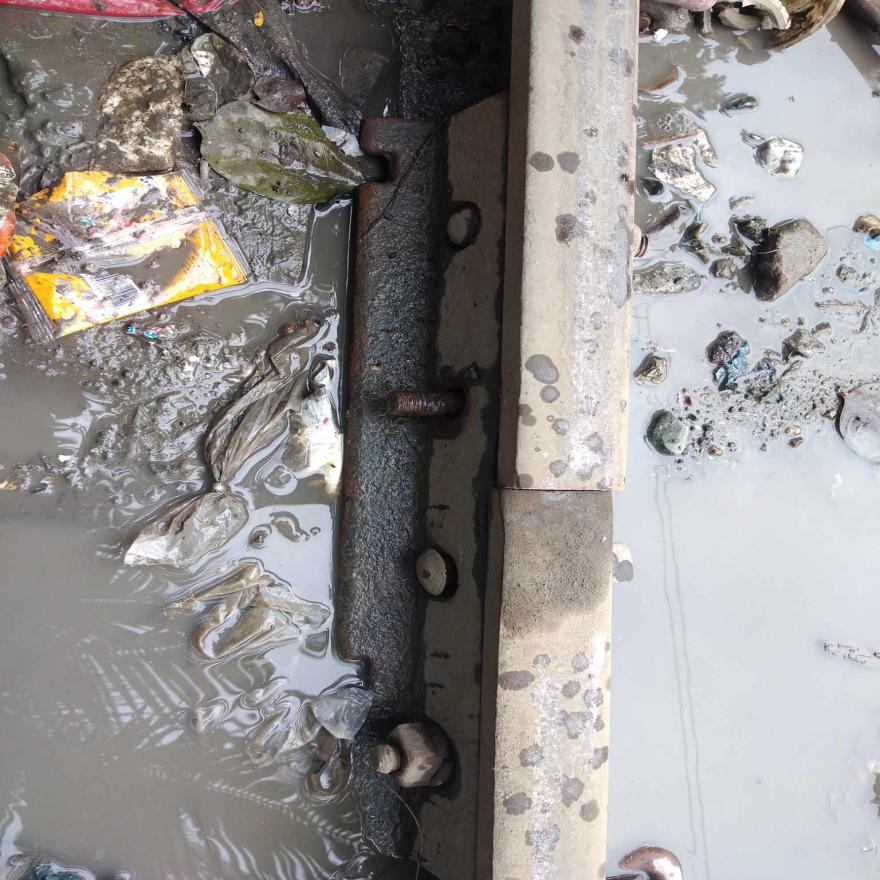railway-gap: (443, 410, 676, 568)
